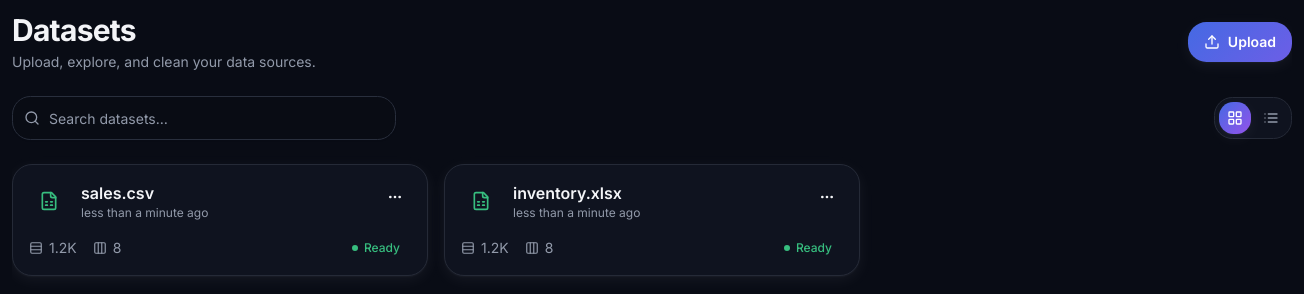
DatasetsPage (integration) › filters datasets by the search query
Expected: the text "sales.csv" is shown, [81,183,154,203]
Step 1. Type "invent" into the field with placeholder "Search datasets…" → (204, 118), box [12,96,396,140]
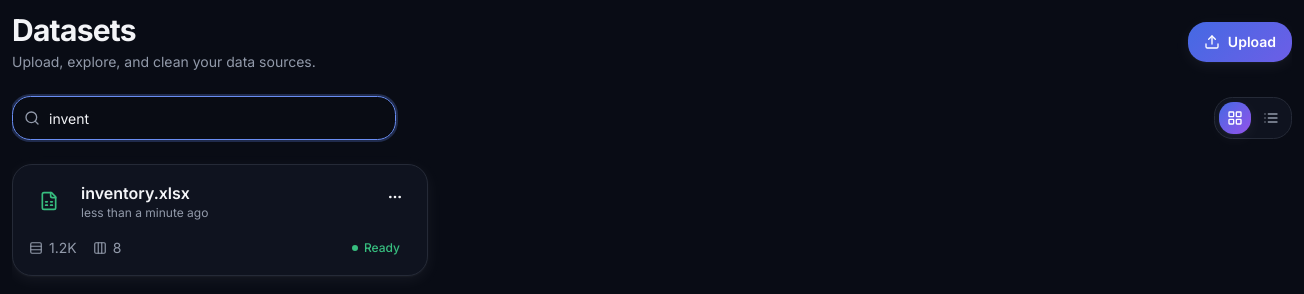
Expected: the text "inventory.xlsx" is shown, [81,183,190,203]
Expected: the button "sales.csv" is gone
